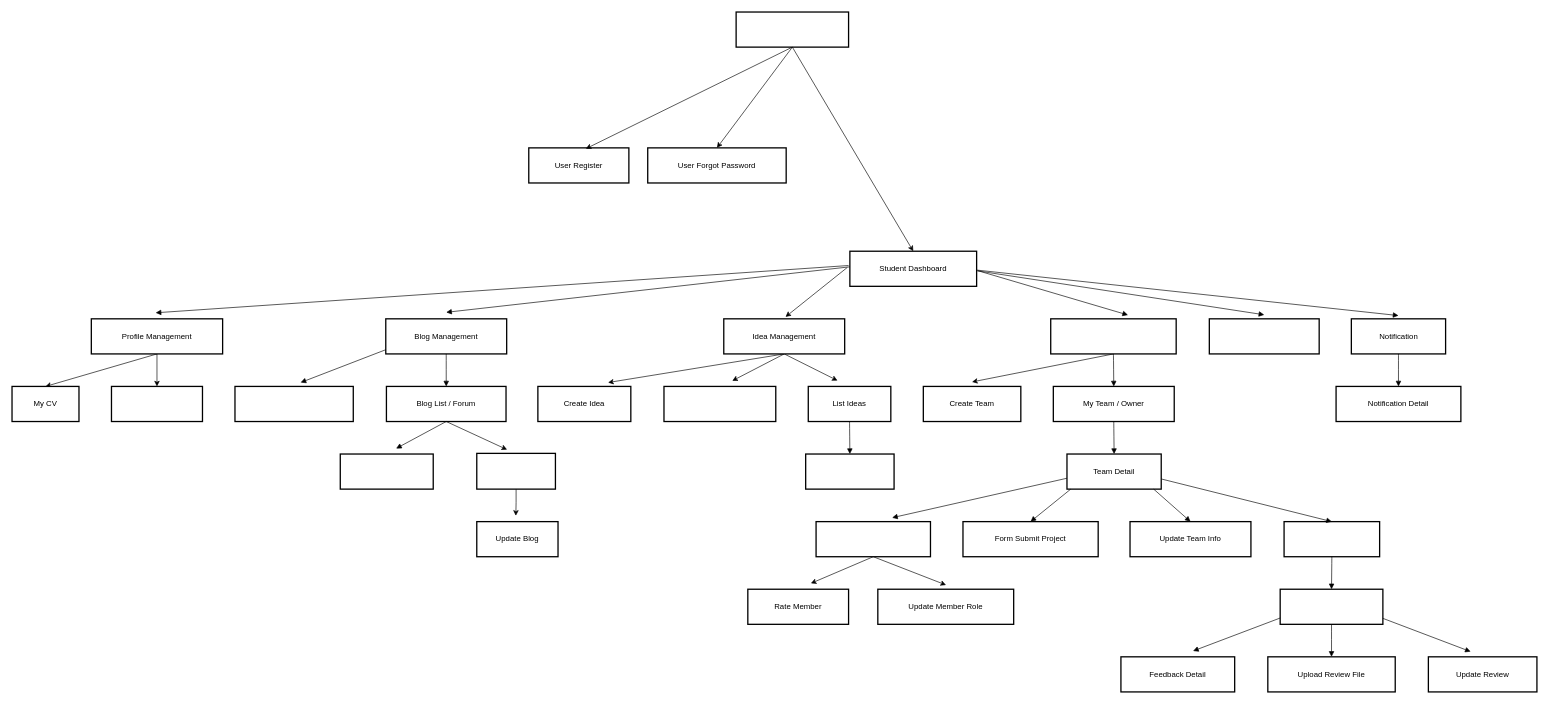
Image size: 1548x703. Some labels were removed from this diagram. Each missing label, with the box of its shape:
Approval Status: (663, 385, 776, 422)
Chat & Support: (1208, 318, 1320, 354)
Create Blog: (339, 453, 434, 489)
Edit Profile: (110, 385, 203, 422)
Idea Detail: (805, 453, 894, 489)
List Reviews: (1283, 521, 1380, 557)
Manage Member: (815, 521, 931, 557)
My Blogs: (476, 452, 556, 489)
Review Detail: (1279, 588, 1383, 625)
Search Blog by AI: (234, 385, 354, 422)
Team Management: (1050, 318, 1176, 354)
User Login Page: (735, 11, 849, 47)
